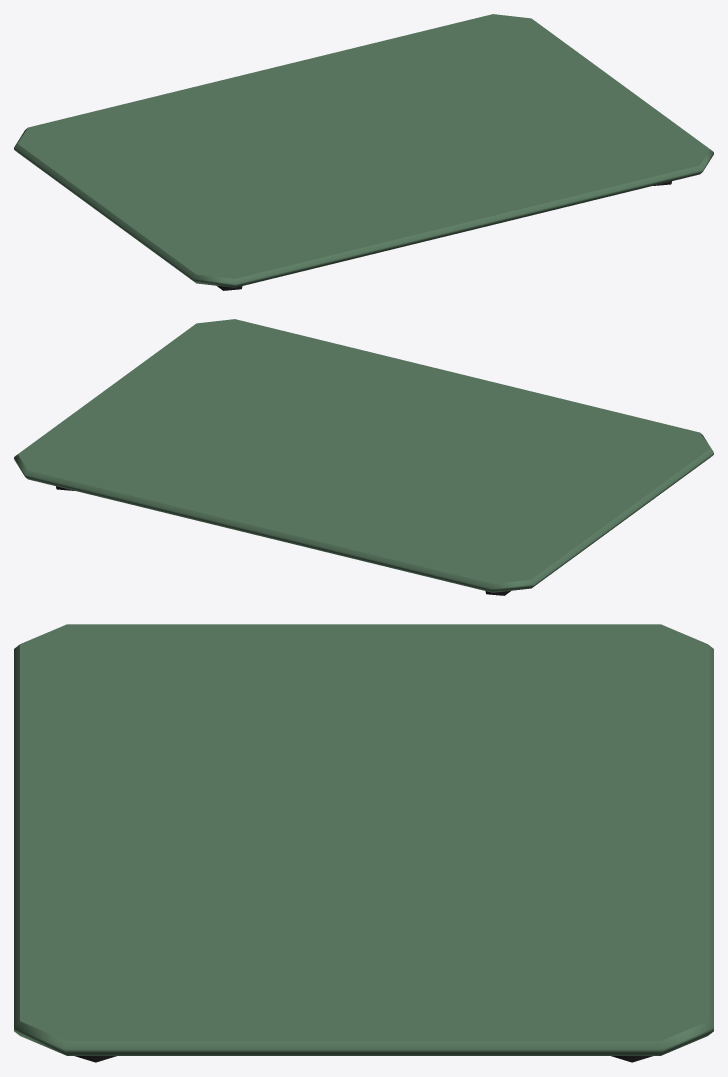
File: t60_mounts.obj
3 views of the same model, one above another, from view 1: azimuth 30°, elevation 25°; view 2: azimuth 150°, elevation 25°; view 3: azimuth 270°, elevation 25° (orthographic). The views are drawn at different scales.
Visible parts, largest first — view 1: t60_mounts; view 2: t60_mounts; view 3: t60_mounts.
Boxes of the visible parts, bbox=[...] form: t60_mounts: bbox=[14, 14, 713, 290]; t60_mounts: bbox=[14, 319, 713, 595]; t60_mounts: bbox=[14, 624, 713, 1062].
Bounding box in the file's own units: 4.88 × 0.24 × 3.42.
